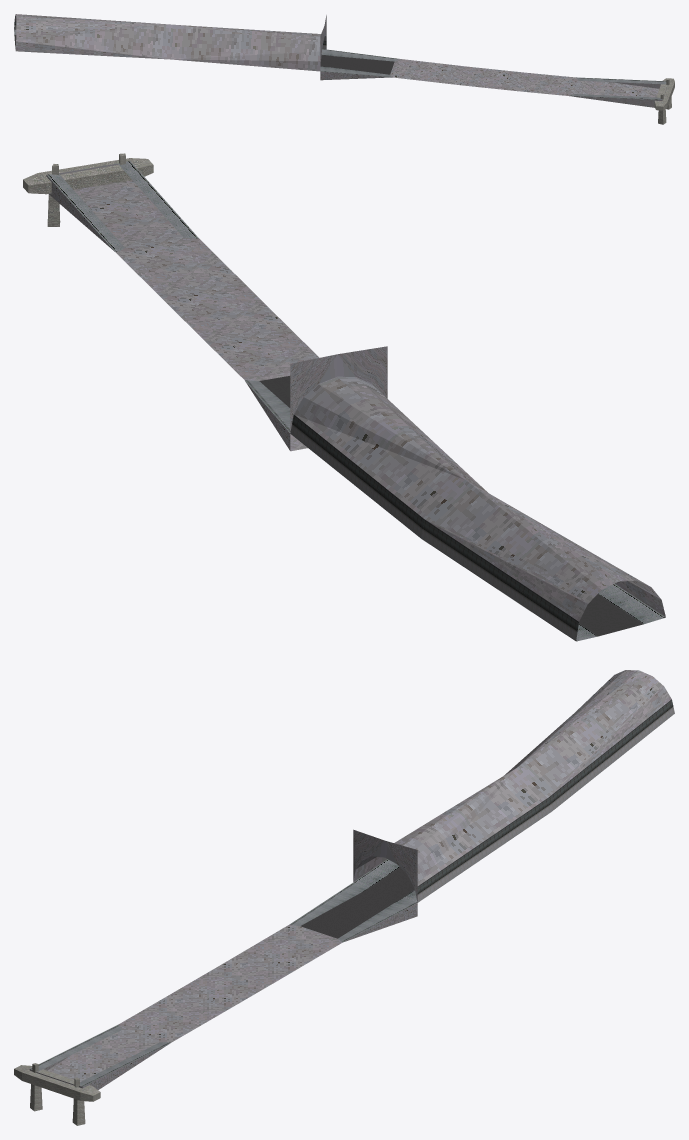
The model's file is lod_lahillstun_lod.obj.
3 views of the same model, one above another, from view 1: azimuth 30°, elevation 25°; view 2: azimuth 150°, elevation 25°; view 3: azimuth 270°, elevation 25° (orthographic). The views are drawn at different scales.
Visible parts, largest first — view 1: lod_LAhillsTun_LOD; view 2: lod_LAhillsTun_LOD; view 3: lod_LAhillsTun_LOD.
Boxes of the visible parts, <box> form: lod_LAhillsTun_LOD: <box>14,14,674,124</box>; lod_LAhillsTun_LOD: <box>23,153,665,641</box>; lod_LAhillsTun_LOD: <box>14,670,674,1125</box>.
Bounding box in the file's own units: 214 × 29.42 × 165.
5 materials, 5 textured.
